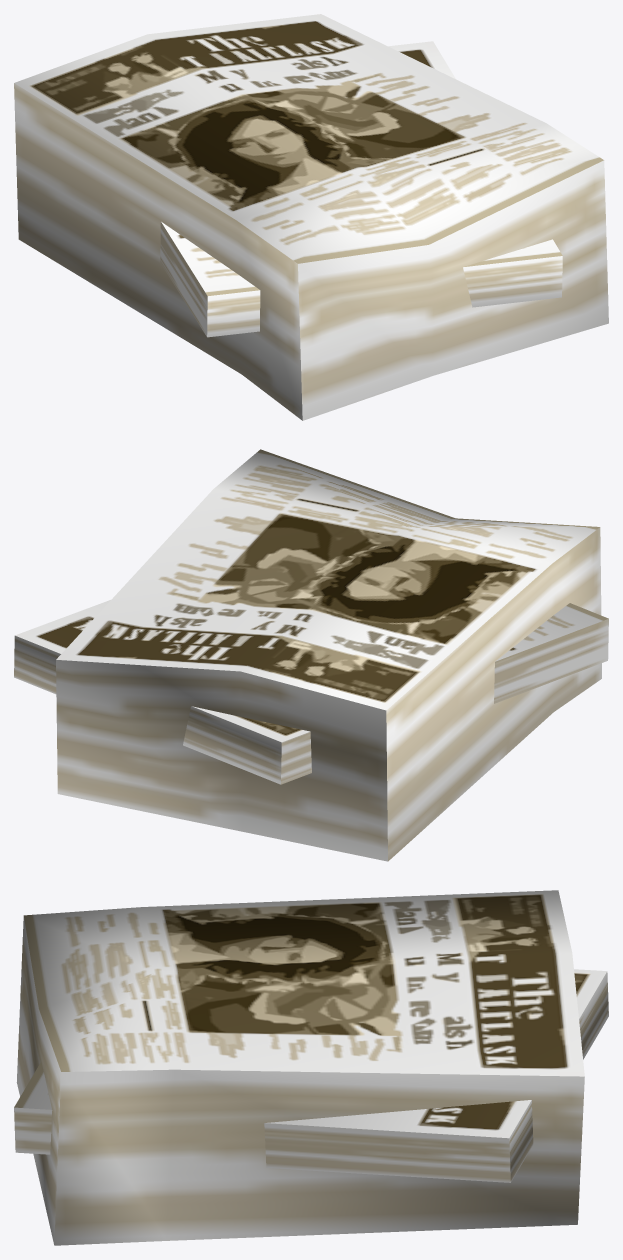
File: SM_PROP_paper_03.fbx
3 renders of one model, top to bottom at view 1: azimuth 30°, elevation 25°; view 2: azimuth 150°, elevation 25°; view 3: azimuth 270°, elevation 25°, orthographic. The views are drawn at different scales.
Parts seen in each view (by area): view 1: SM_PROP_paper_03; view 2: SM_PROP_paper_03; view 3: SM_PROP_paper_03.
Part boxes in pixels (box(x1,y1,x2,y2)): SM_PROP_paper_03: box(14, 14, 608, 420); SM_PROP_paper_03: box(14, 449, 608, 861); SM_PROP_paper_03: box(14, 890, 608, 1245).
Size of the model in its own units: 46.62 by 18.59 by 54.51.
